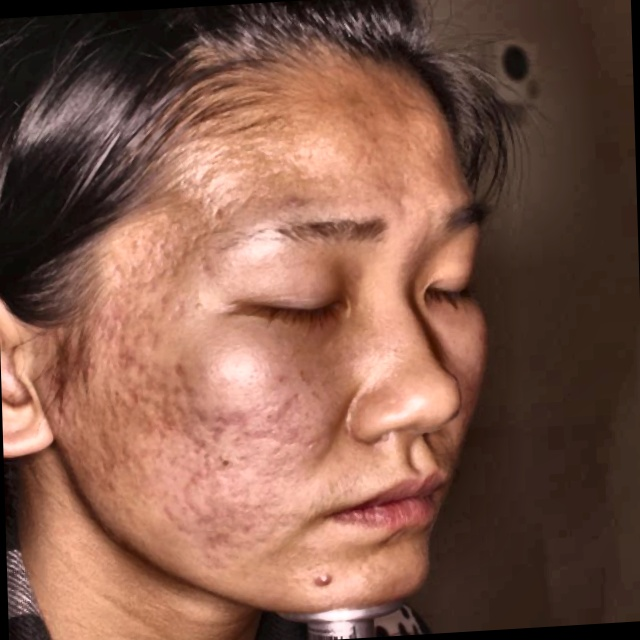comedone: (313, 565, 330, 596)
